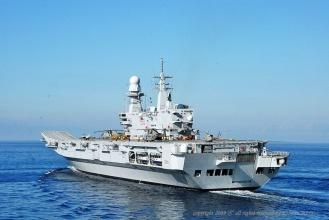warship: (40, 55, 292, 192)
